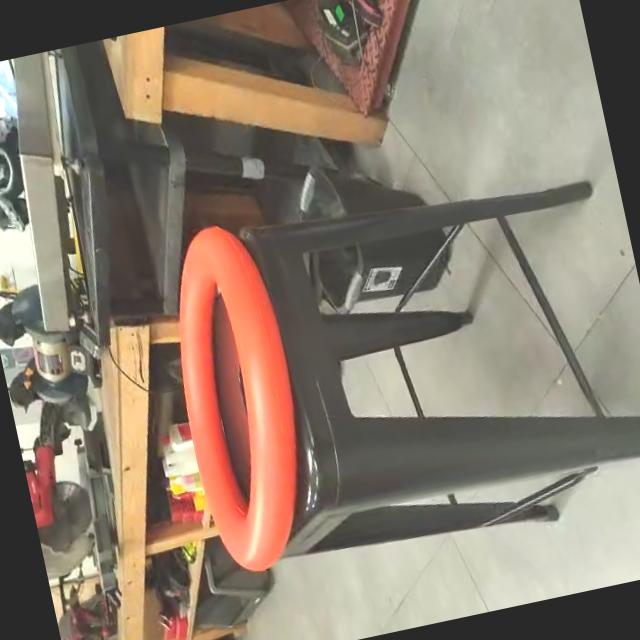note: (147, 215, 333, 580)
